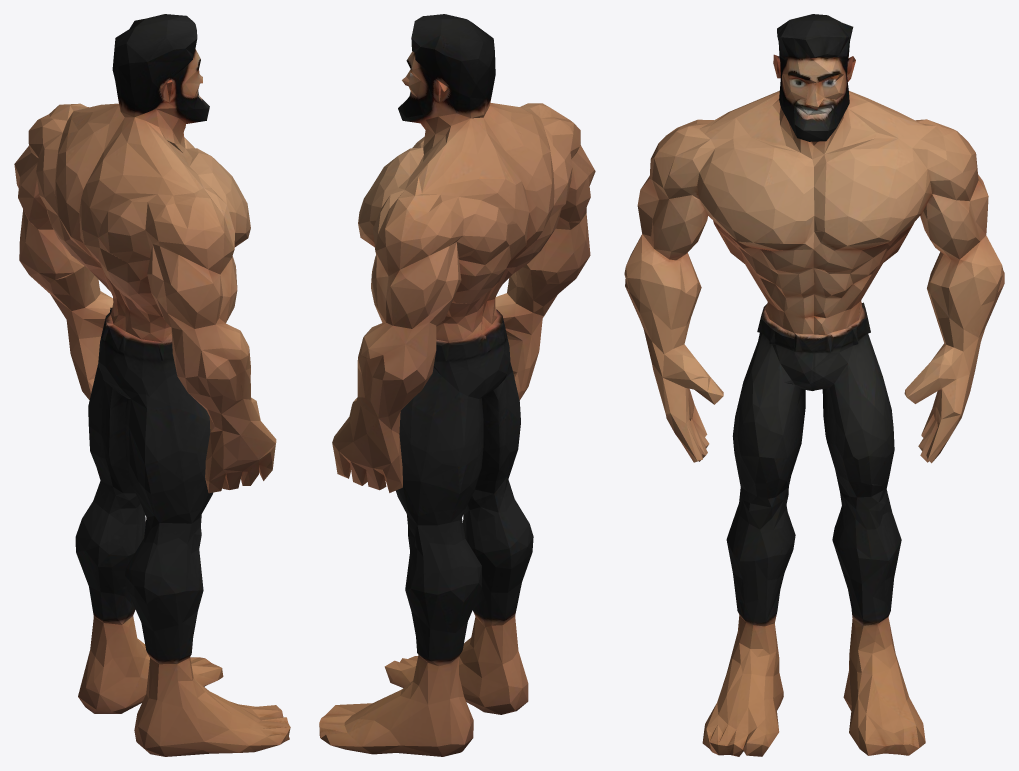
The model's file is tripo_convert_bbe7e406-5e9a-4720-b956-656ebffa174e.obj.
3 renders of one model, left to right at view 1: azimuth 30°, elevation 25°; view 2: azimuth 150°, elevation 25°; view 3: azimuth 270°, elevation 25°, orthographic.
Parts seen in each view (by area): view 1: tripo_node_bbe7e406-5e9a-4720-b956-656ebffa174e; view 2: tripo_node_bbe7e406-5e9a-4720-b956-656ebffa174e; view 3: tripo_node_bbe7e406-5e9a-4720-b956-656ebffa174e.
Boxes of the visible parts, bbox=[...] form: tripo_node_bbe7e406-5e9a-4720-b956-656ebffa174e: bbox=[14, 14, 290, 756]; tripo_node_bbe7e406-5e9a-4720-b956-656ebffa174e: bbox=[319, 14, 595, 756]; tripo_node_bbe7e406-5e9a-4720-b956-656ebffa174e: bbox=[624, 14, 1004, 756].
Bounding box in the file's own units: 0.2664 × 1 × 0.4911.
Materials: 1 (1 with a texture image).
